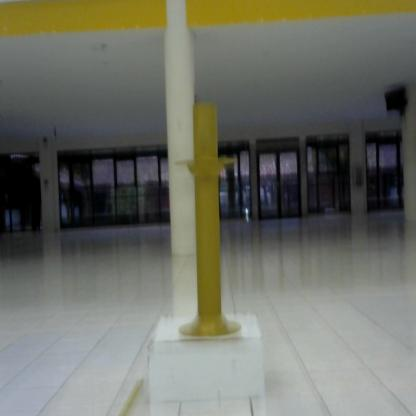pole: (175, 100, 243, 344)
